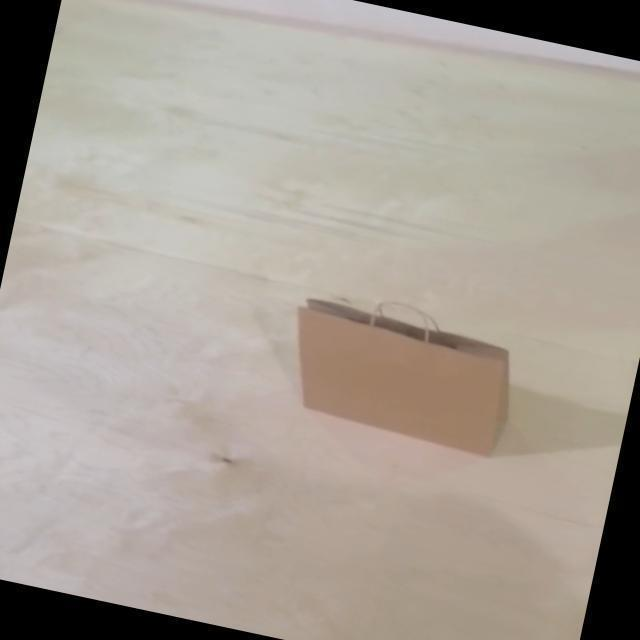Paper_Bag: (274, 281, 525, 460)
